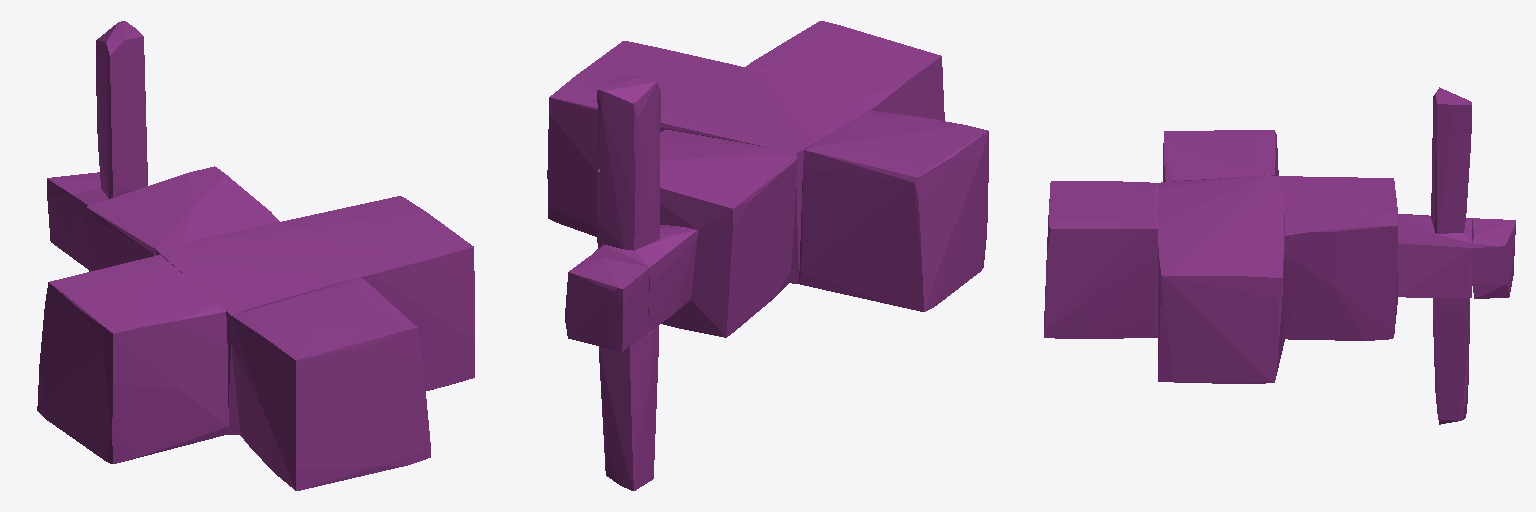
The robot description file, URDF, robot "blob630":
<robot name="blob630">
  <link name="random_obj_630">
    <contact>
      <lateral_friction value="1.0"/>
      <rolling_friction value="0.0"/>
      <inertia_scaling value="3.0"/>
      <contact_cfm value="0.0"/>
      <contact_erp value="1.0"/>
    </contact>
    <inertial>
      <origin rpy="0 0 0" xyz="0 0 0"/>
      <mass value="0.1"/>
      <inertia ixx="1" ixy="0" ixz="0" iyy="1" iyz="0" izz="0"/>
    </inertial>
    <visual>
      <origin rpy="0 0 0" xyz="0 0 0"/>
      <geometry>
        <mesh filename="630.obj" scale="0.015 0.015 0.015"/>
      </geometry>
      <material name="blockmat">
        <color rgba="0.60 0.28 0.59 1"/>
      </material>
    </visual>
    <collision>
      <origin rpy="0 0 0" xyz="0 0 0"/>
      <geometry>
        <mesh filename="630.obj" scale="0.015 0.015 0.015"/>
      </geometry>
    </collision>
  </link>
</robot>

--- Render facts (derived) ---
3 views of the same robot in one strip: view 1: azimuth 30°, elevation 25°; view 2: azimuth 150°, elevation 25°; view 3: azimuth 270°, elevation 25° (orthographic).
Model blob630 with 1 links and 0 joints (none), rooted at random_obj_630, posed every joint at zero.
Links seen in each view (by area): view 1: random_obj_630; view 2: random_obj_630; view 3: random_obj_630.
Boxes of the visible links, x1=… form: random_obj_630: x1=37, y1=21, x2=474, y2=490; random_obj_630: x1=547, y1=21, x2=988, y2=490; random_obj_630: x1=1044, y1=87, x2=1515, y2=424.
Bounding box of the posed robot: 0.0926 × 0.1226 × 0.0932 m (x, y, z).
Meshes: 1 distinct files referenced, 1 mesh visuals loaded (1 OBJ).